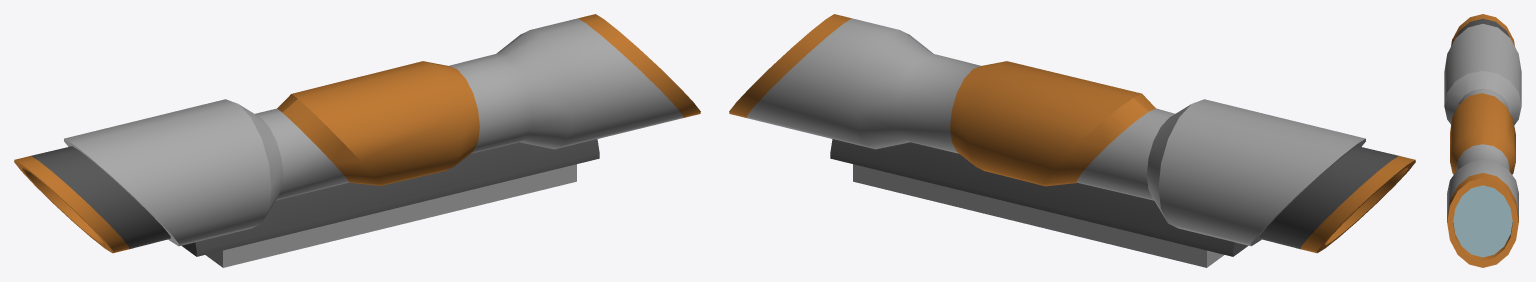
File: Scope_2.glb
The picture shows the model from 3 angles, left to right: view 1: azimuth 30°, elevation 25°; view 2: azimuth 150°, elevation 25°; view 3: azimuth 270°, elevation 25°; orthographic projection. The views are drawn at different scales.
Parts seen in each view (by area): view 1: Scope_2; view 2: Scope_2; view 3: Scope_2.
Part boxes in pixels (x1=…): Scope_2: x1=14, y1=14, x2=700, y2=267; Scope_2: x1=729, y1=14, x2=1415, y2=267; Scope_2: x1=1444, y1=14, x2=1521, y2=267.
Bounding box in the file's own units: 0.721 × 0.1544 × 0.1236.
